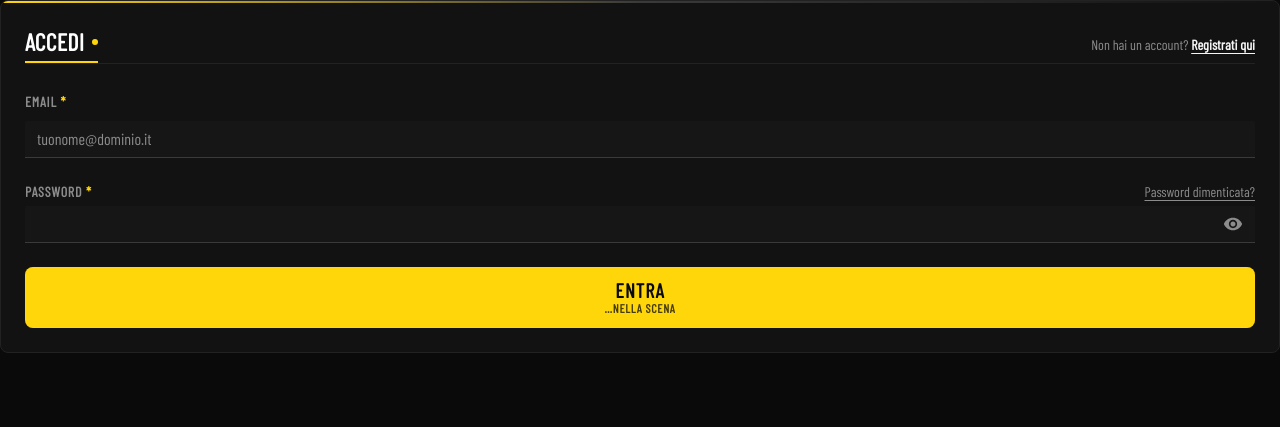
it: LoginPage › il messaggio di un campo sparisce appena si scrive nel campo
Click the button "Entra …nella scena" at (640, 298), box [25,267,1255,328]
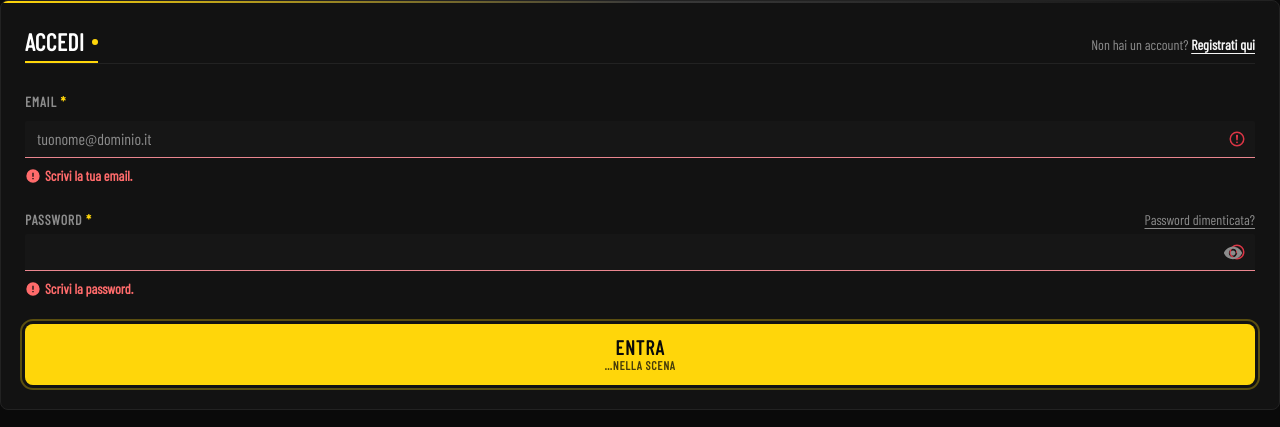
Check: the text "Scrivi la tua email." is shown, box [45,166,132,186]
Type "a" into the field labelled "Email" at (640, 139), box [25,121,1255,158]
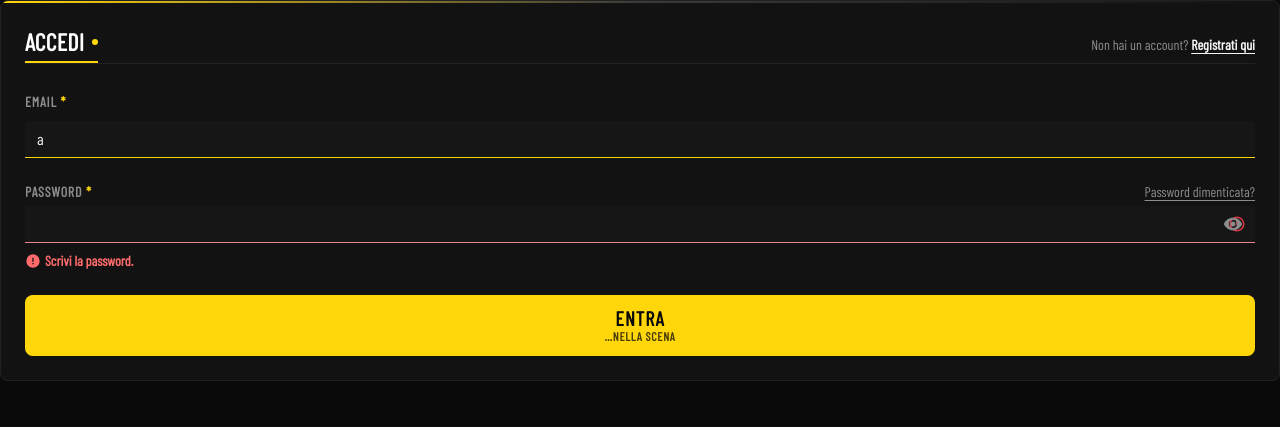
Check: the text "Scrivi la password." is shown, box [45,251,134,271]
Check: the text "Scrivi la tua email." is gone
